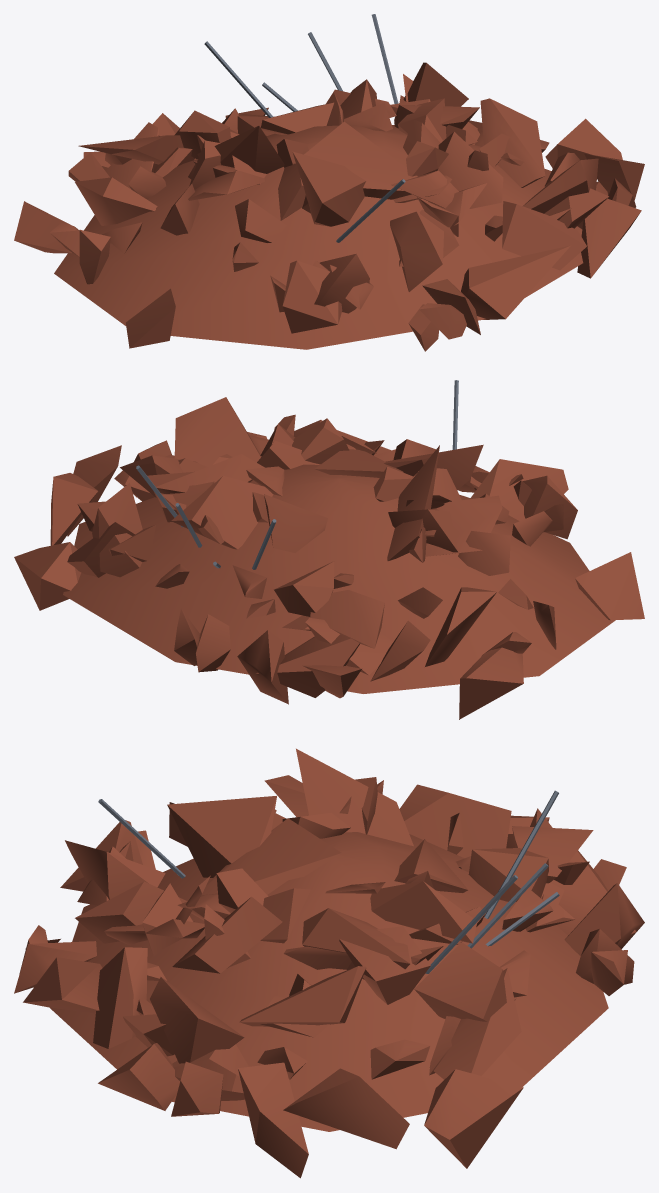
The model's file is demolition.heap.brick_small.glb.
3 renders of one model, top to bottom at view 1: azimuth 30°, elevation 25°; view 2: azimuth 150°, elevation 25°; view 3: azimuth 270°, elevation 25°, orthographic. The views are drawn at different scales.
Parts seen in each view (by area): view 1: main__brick, main__steel_painted; view 2: main__brick, main__steel_painted; view 3: main__brick, main__steel_painted.
Boxes of the visible parts, x1,y1,x2,y2 form: main__brick: (14, 62, 644, 351); main__steel_painted: (204, 14, 405, 242); main__brick: (14, 397, 644, 719); main__steel_painted: (136, 380, 458, 569); main__brick: (14, 748, 644, 1178); main__steel_painted: (98, 790, 559, 973).
Bounding box in the file's own units: 3.39 × 1.15 × 2.85.
